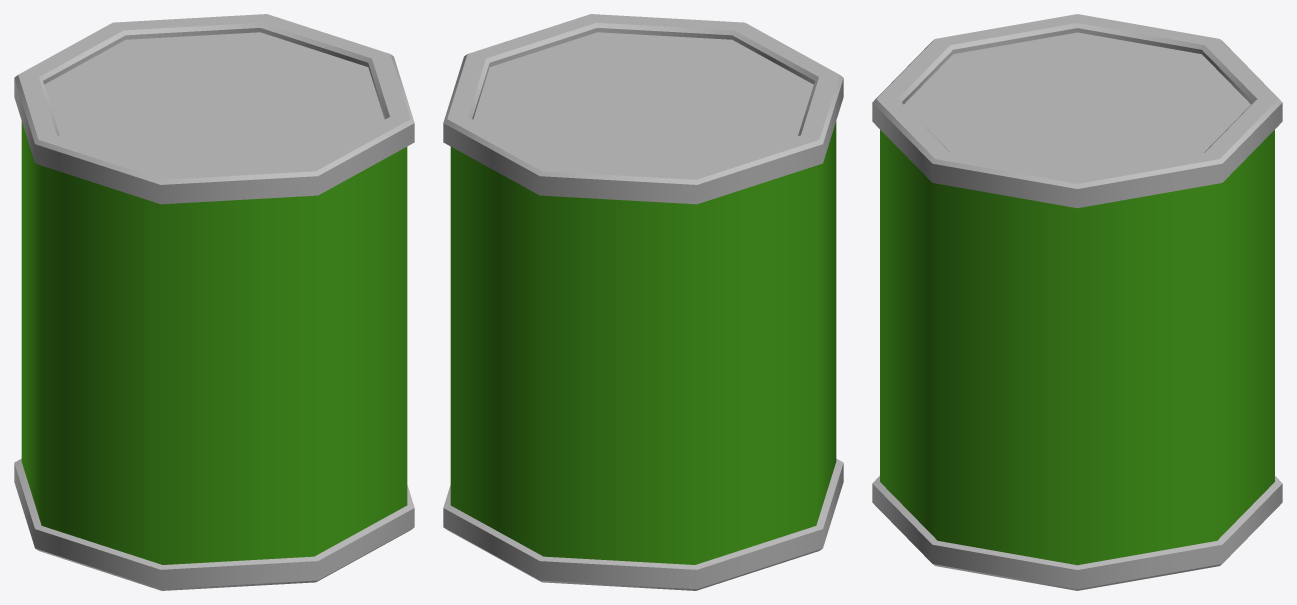
Rendered from Fridgerer_Canned_01.glb.
The picture shows the model from 3 angles, left to right: view 1: azimuth 30°, elevation 25°; view 2: azimuth 150°, elevation 25°; view 3: azimuth 270°, elevation 25°; orthographic projection.
Visible parts, largest first — view 1: Canned2; view 2: Canned2; view 3: Canned2.
Boxes of the visible parts, left/top/right/bottom form: Canned2: left=14, top=14, right=414, bottom=590; Canned2: left=443, top=14, right=843, bottom=590; Canned2: left=872, top=14, right=1282, bottom=590.
Size of the model in its own units: 0.1036 by 0.1134 by 0.1036.
